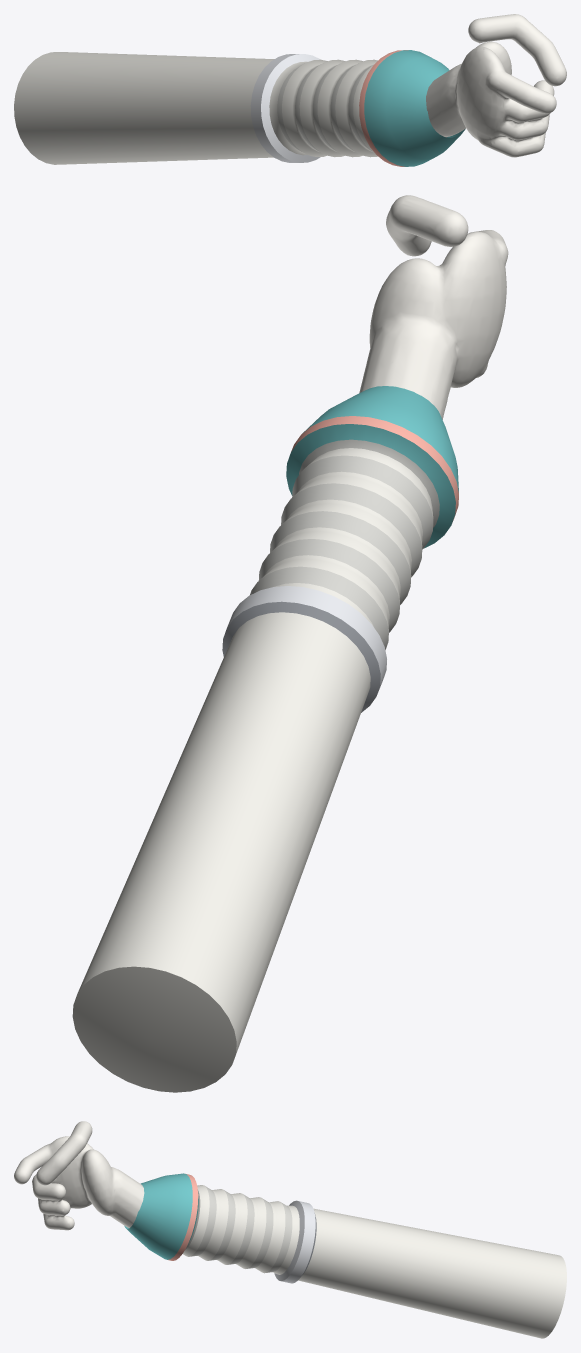
The model's file is ic_hand_right.glb.
3 renders of one model, top to bottom at view 1: azimuth 30°, elevation 25°; view 2: azimuth 150°, elevation 25°; view 3: azimuth 270°, elevation 25°, orthographic. The views are drawn at different scales.
Visible parts, largest first — view 1: ic_hand_right_sleeve, ic_hand_right_glove; view 2: ic_hand_right_sleeve, ic_hand_right_glove; view 3: ic_hand_right_sleeve, ic_hand_right_glove.
Part boxes in pixels (x1,y1,x2,y2): ic_hand_right_sleeve: (14,50,465,166); ic_hand_right_glove: (426,14,566,157); ic_hand_right_sleeve: (72,386,458,1092); ic_hand_right_glove: (359,195,508,419); ic_hand_right_sleeve: (124,1173,566,1338); ic_hand_right_glove: (14,1121,144,1230).
Bounding box in the file's own units: 0.2613 × 0.38 × 0.7517.
